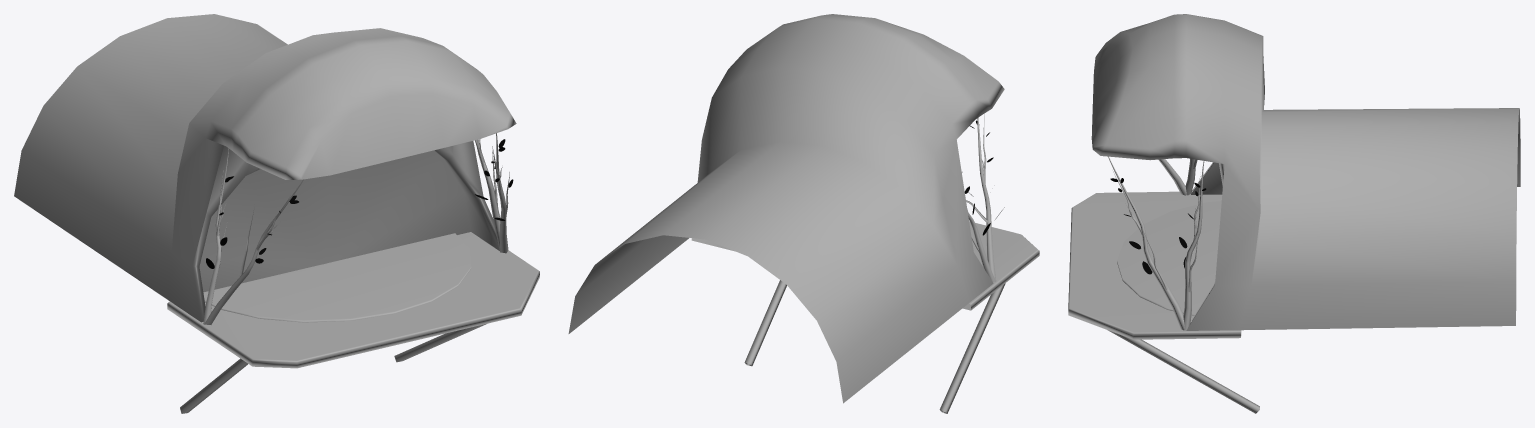
The model's file is Trogo_3.fbx.
3 renders of one model, left to right at view 1: azimuth 30°, elevation 25°; view 2: azimuth 150°, elevation 25°; view 3: azimuth 270°, elevation 25°, orthographic. The views are drawn at different scales.
Visible parts, largest first — view 1: trogo_3; view 2: trogo_3; view 3: trogo_3.
Boxes of the visible parts, x1,y1,x2,y2 form: trogo_3: (14,14,539,413); trogo_3: (568,14,1039,413); trogo_3: (1068,14,1520,413).
Bounding box in the file's own units: 691 × 762 × 905.
